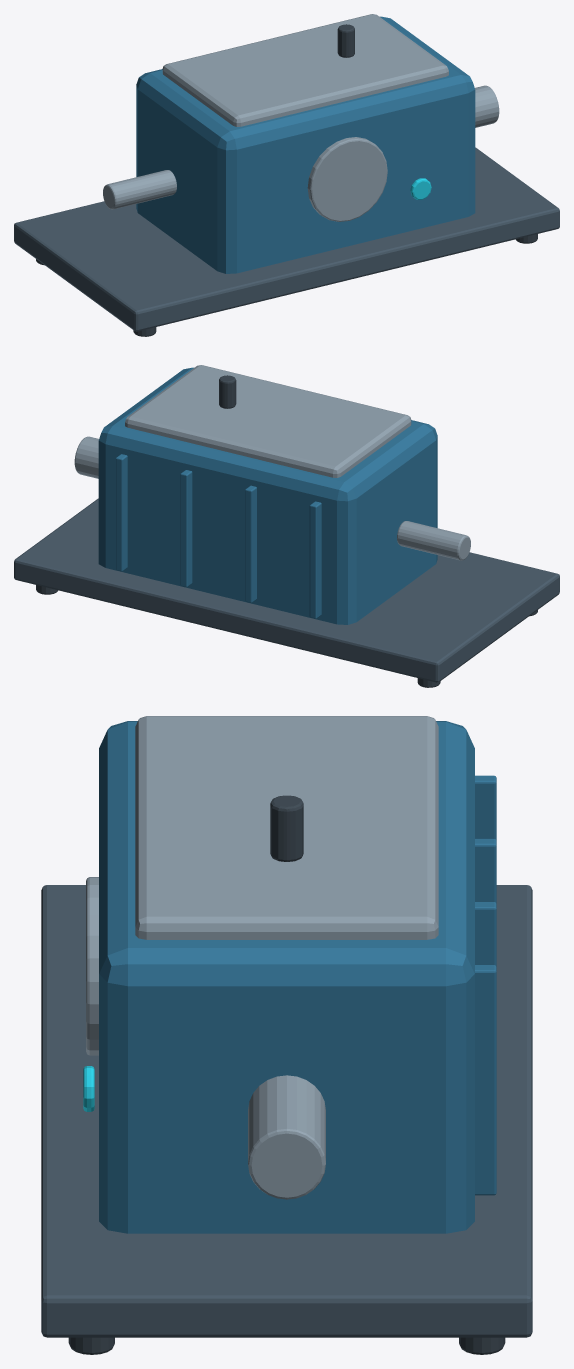
File: grate-gearbox-lod1.glb
3 renders of one model, top to bottom at view 1: azimuth 30°, elevation 25°; view 2: azimuth 150°, elevation 25°; view 3: azimuth 270°, elevation 25°, orthographic. The views are drawn at different scales.
Visible parts, largest first — view 1: gearbox_housing, drive_base, gearbox_top_cover, gearbox_inspection_cover, gearbox_input_shaft, gearbox_output_shaft, gearbox_breather; view 2: gearbox_housing, drive_base, gearbox_top_cover, gearbox_input_shaft, gearbox_cooling_rib_00, gearbox_cooling_rib_02, gearbox_cooling_rib_01, gearbox_cooling_rib_03, gearbox_output_shaft, gearbox_breather; view 3: gearbox_housing, drive_base, gearbox_top_cover, gearbox_output_shaft, gearbox_cooling_rib_03, gearbox_inspection_cover, gearbox_breather, gearbox_cooling_rib_00, gearbox_cooling_rib_01, gearbox_cooling_rib_02.
Boxes of the visible parts, x1,y1,x2,y2 form: gearbox_housing: (136, 16, 475, 273); drive_base: (14, 147, 559, 331); gearbox_top_cover: (162, 14, 448, 126); gearbox_inspection_cover: (307, 137, 387, 221); gearbox_input_shaft: (103, 170, 176, 209); gearbox_output_shaft: (475, 85, 499, 127); gearbox_breather: (337, 24, 354, 57); gearbox_housing: (98, 367, 437, 624); drive_base: (14, 498, 559, 682); gearbox_top_cover: (125, 365, 411, 477); gearbox_input_shaft: (397, 521, 470, 560); gearbox_cooling_rib_00: (309, 501, 321, 618); gearbox_cooling_rib_02: (180, 470, 192, 587); gearbox_cooling_rib_01: (245, 485, 256, 602); gearbox_cooling_rib_03: (116, 454, 127, 571); gearbox_output_shaft: (74, 436, 98, 478); gearbox_breather: (219, 375, 236, 408); gearbox_housing: (99, 721, 474, 1233); drive_base: (41, 885, 532, 1337); gearbox_top_cover: (135, 716, 438, 939); gearbox_output_shaft: (248, 1075, 325, 1199); gearbox_cooling_rib_03: (475, 965, 496, 1195); gearbox_inspection_cover: (86, 877, 98, 1055); gearbox_breather: (270, 795, 303, 861); gearbox_cooling_rib_00: (475, 775, 496, 840); gearbox_cooling_rib_01: (475, 838, 496, 903); gearbox_cooling_rib_02: (475, 902, 496, 966).
Bounding box in the file's own units: 6.8 × 3.18 × 3.4.
